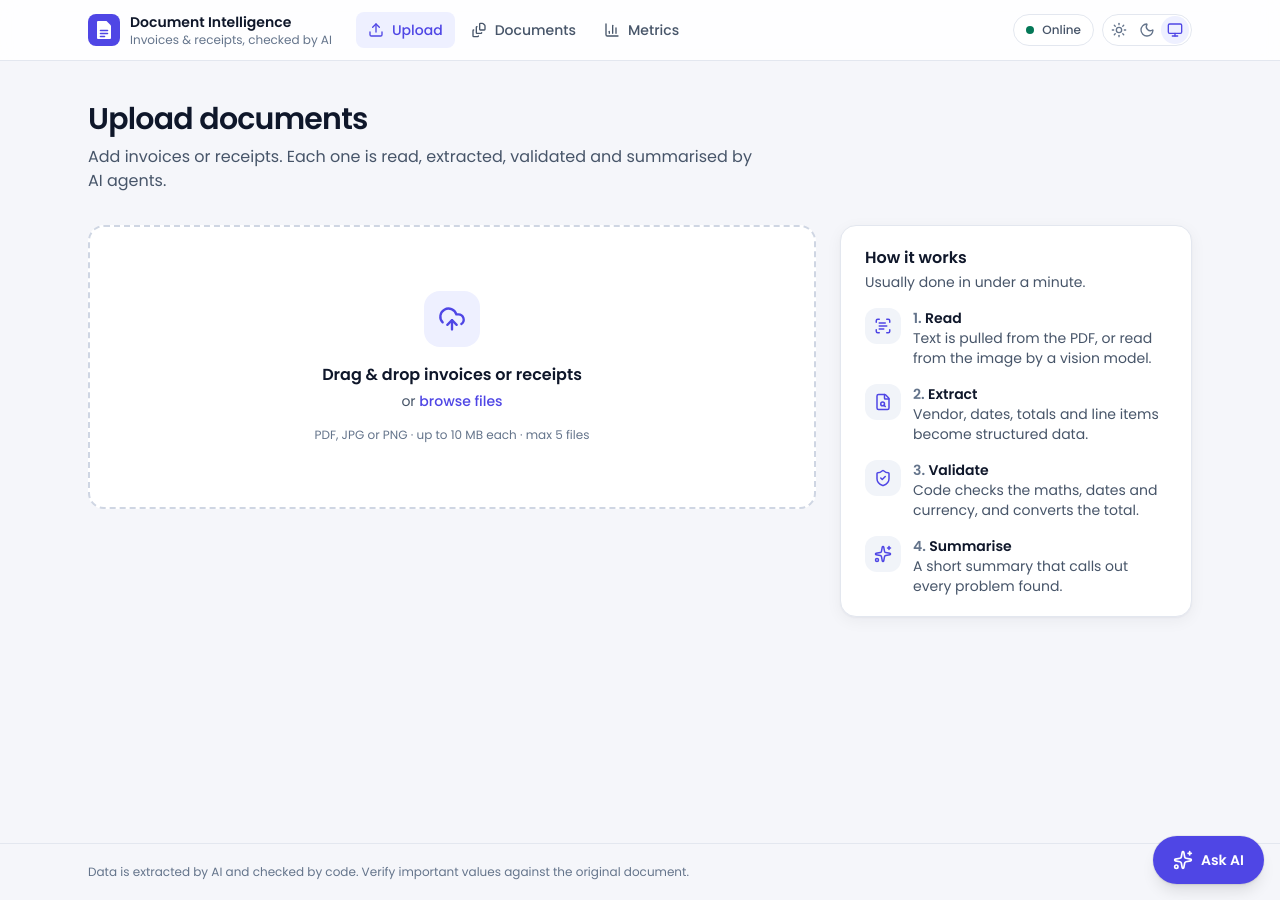
Test: Ask AI chat (feature 0010) › shows a failed answer with a retry
Click the button with aria-label "Ask AI about your invoices" at (1208, 860), box [1153,836,1264,884]
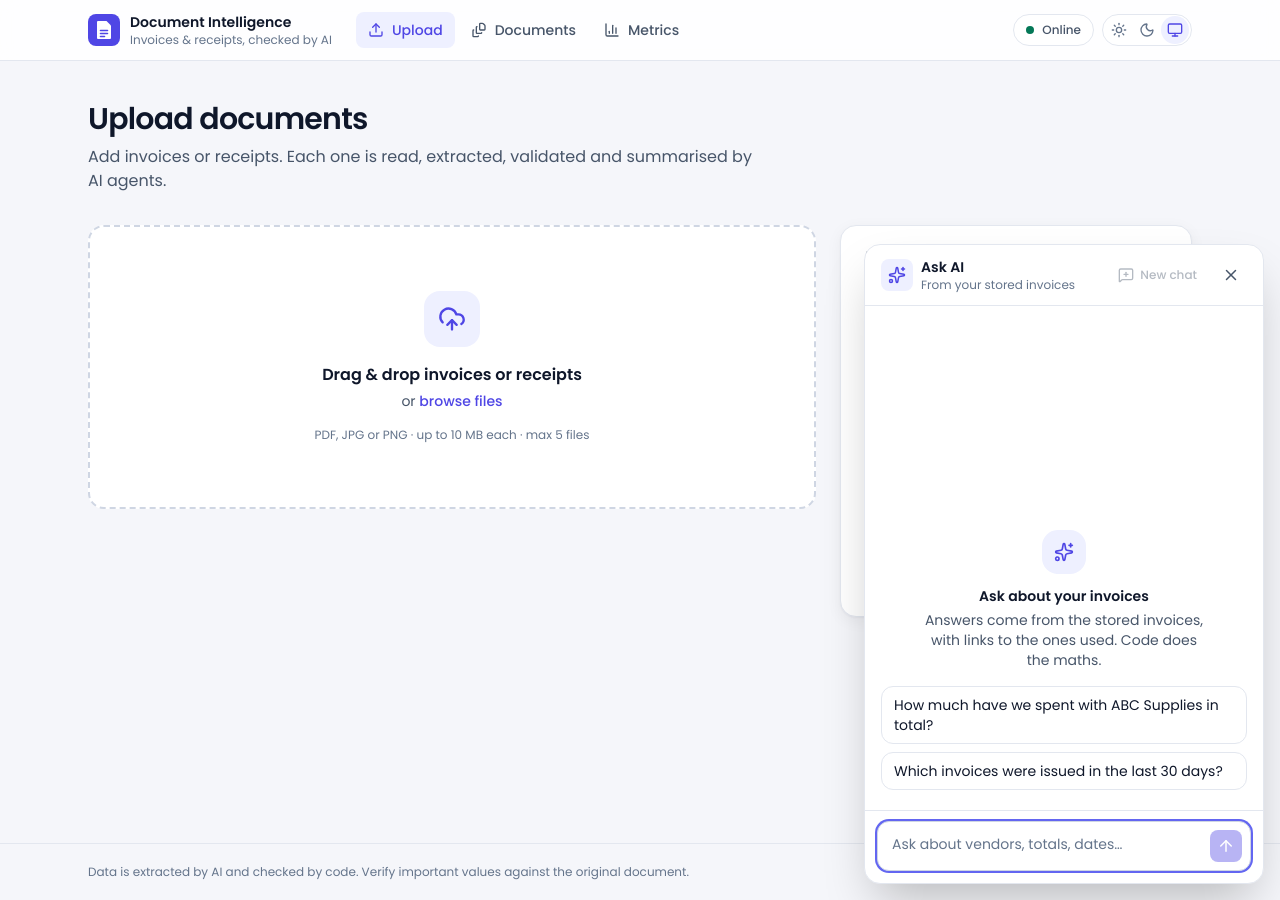
Type "Total for ABC?" into the text box named "Your question" at (1044, 846), box [886,828,1202,864]
Then press Enter
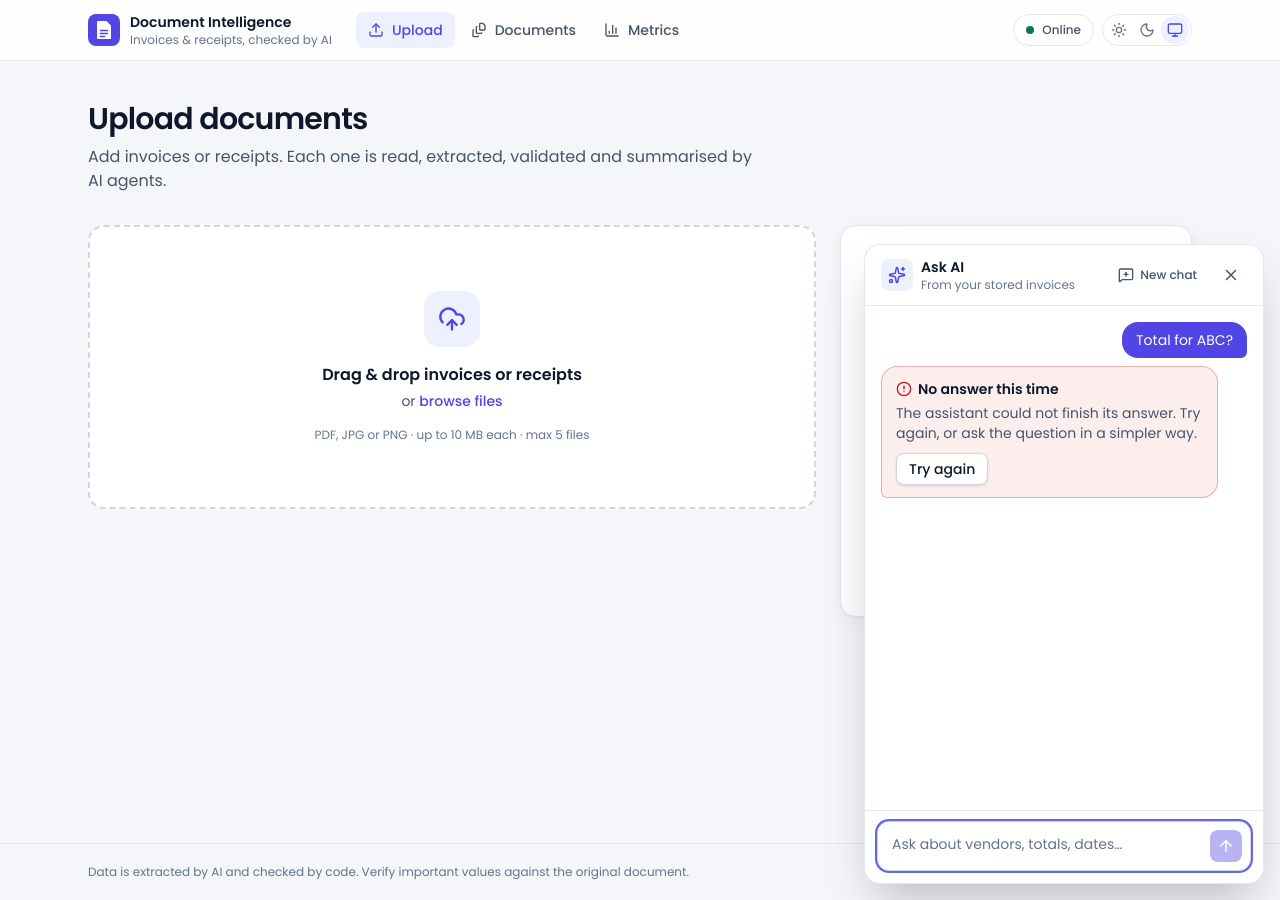
expect the text "No answer this time" is shown: met, box [896,379,1058,399]
Click the button "Try again" at (942, 469), box [896,453,988,485]
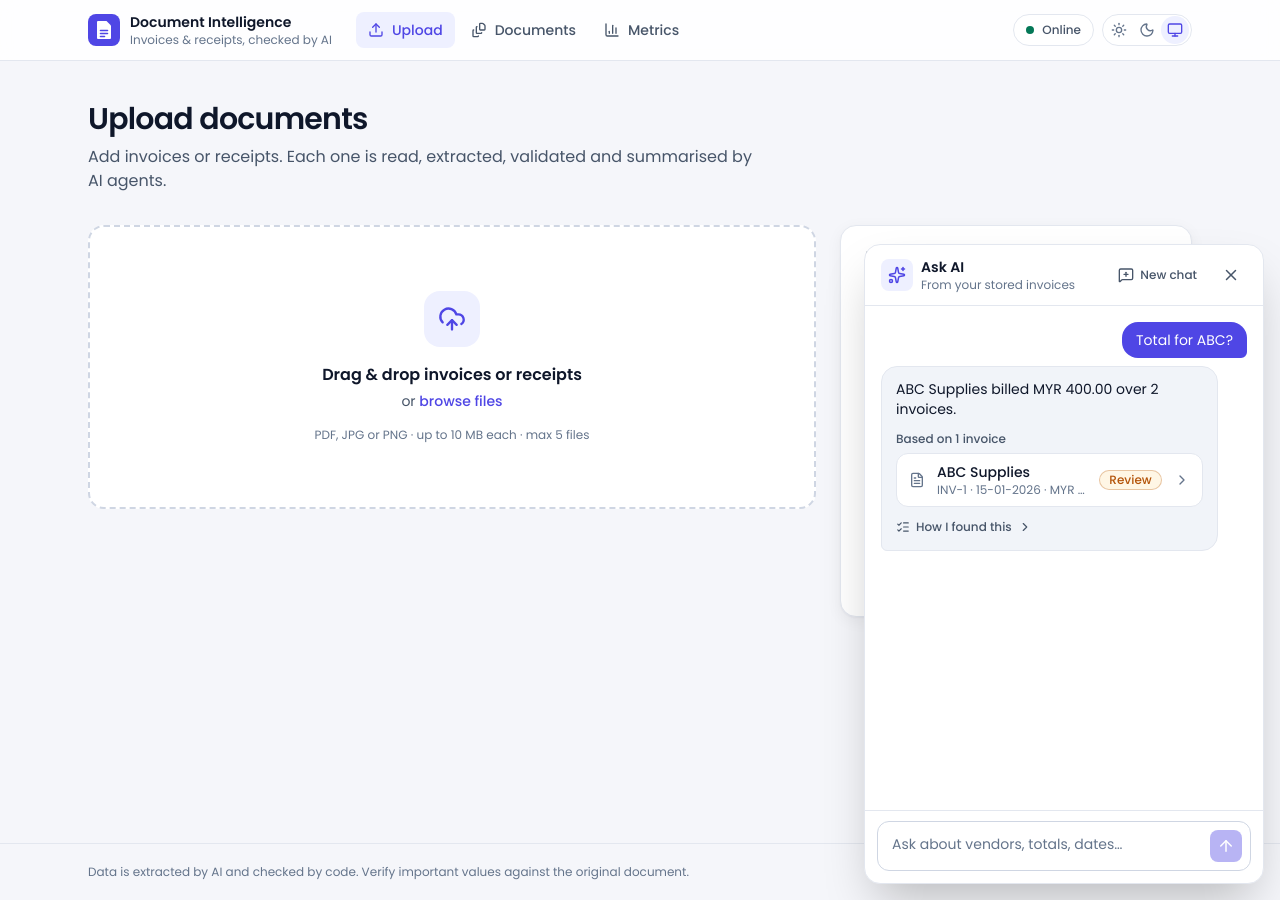
expect the text "Total for ABC?" is shown once: met, box [1122,322,1247,358]
expect the text "ABC Supplies billed MYR 400.00 over 2 invoices." is shown: met, box [896,379,1203,419]
